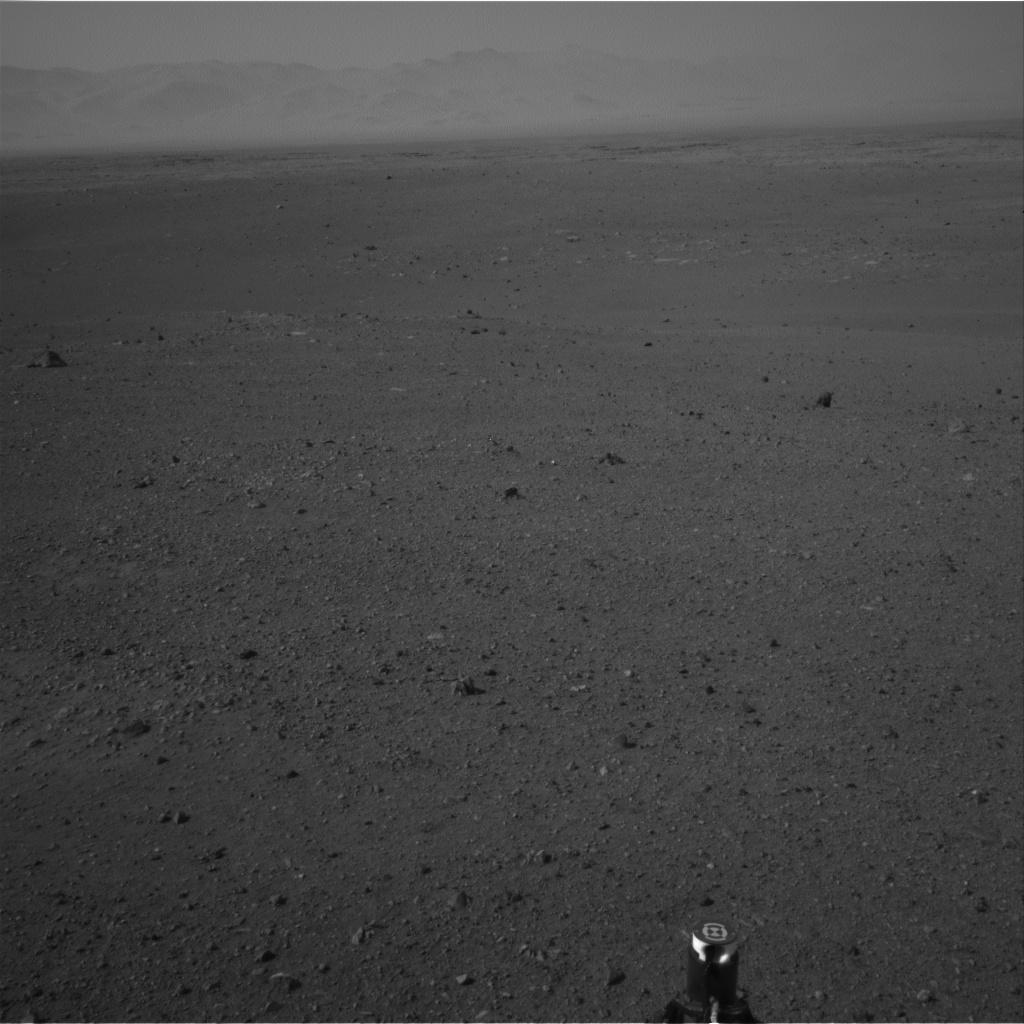soil: (5, 332, 1020, 1018)
